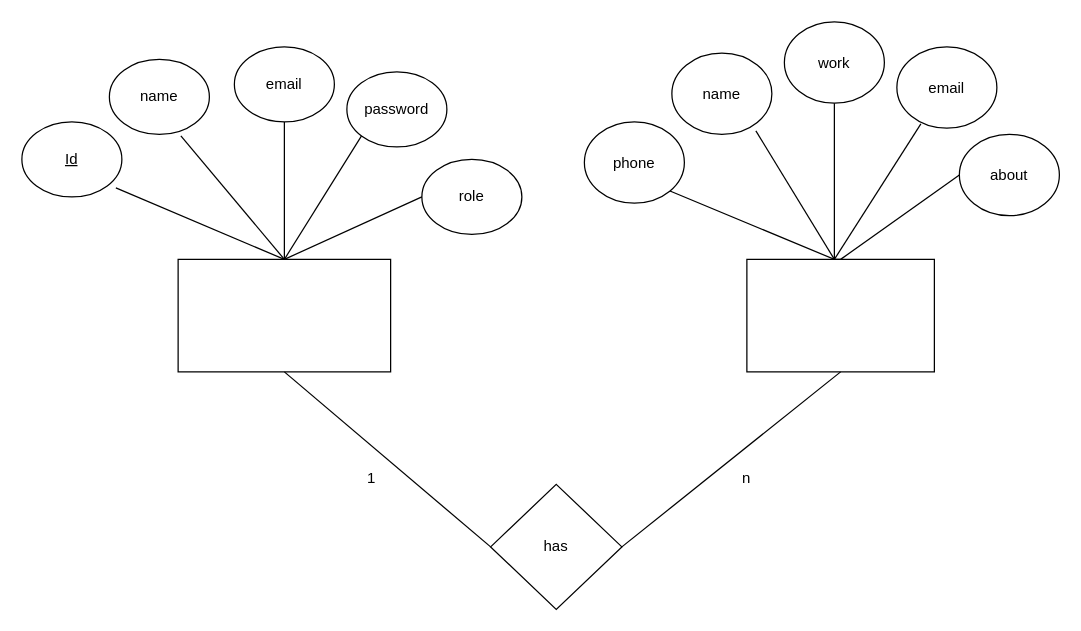
Image size: 1081x631. Some labels were removed from this diagram. The shapes that lost their labels are listed below. From the top down, each one's box as (x1, y1, x2, y2) in pixels, then its label:
(177, 258, 391, 372): USER
(746, 258, 934, 372): CONTACT
